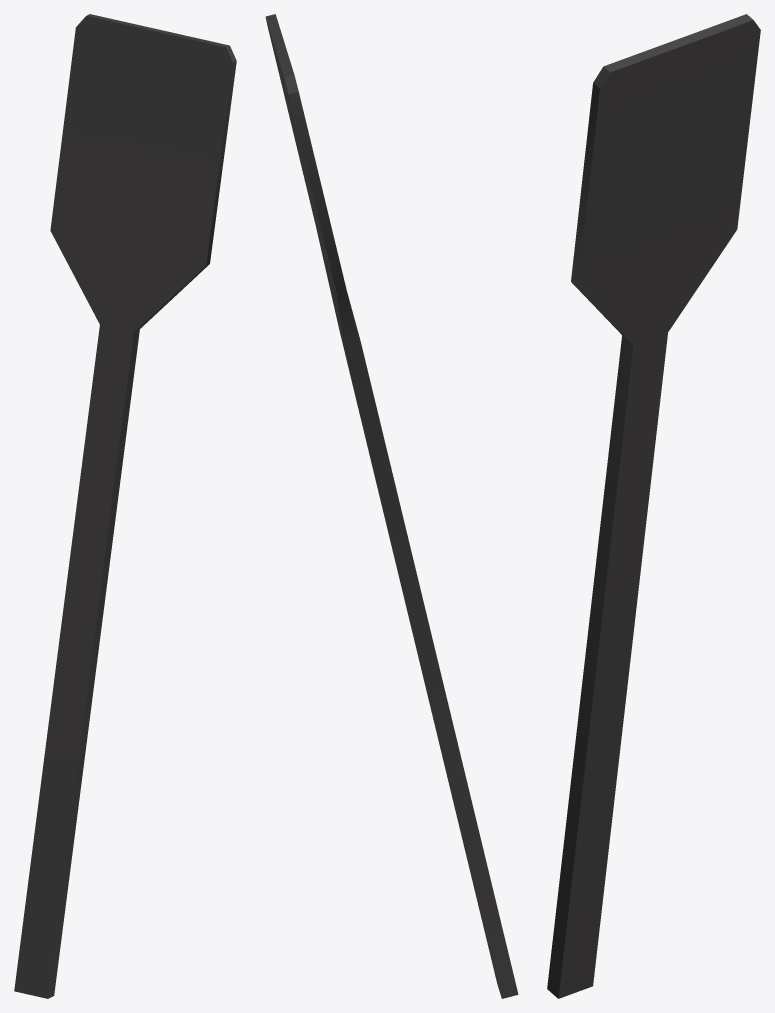
The model's file is Kitchen_Spatula04.FBX.
3 renders of one model, left to right at view 1: azimuth 30°, elevation 25°; view 2: azimuth 150°, elevation 25°; view 3: azimuth 270°, elevation 25°, orthographic. The views are drawn at different scales.
Visible parts, largest first — view 1: Kitchen_spatula_4; view 2: Kitchen_spatula_4; view 3: Kitchen_spatula_4.
Part boxes in pixels (box(x1,y1,x2,y2)): Kitchen_spatula_4: box(14, 14, 236, 998); Kitchen_spatula_4: box(265, 14, 518, 998); Kitchen_spatula_4: box(547, 14, 760, 998).
Size of the model in its own units: 0.0872 by 0.3235 by 0.0597.
